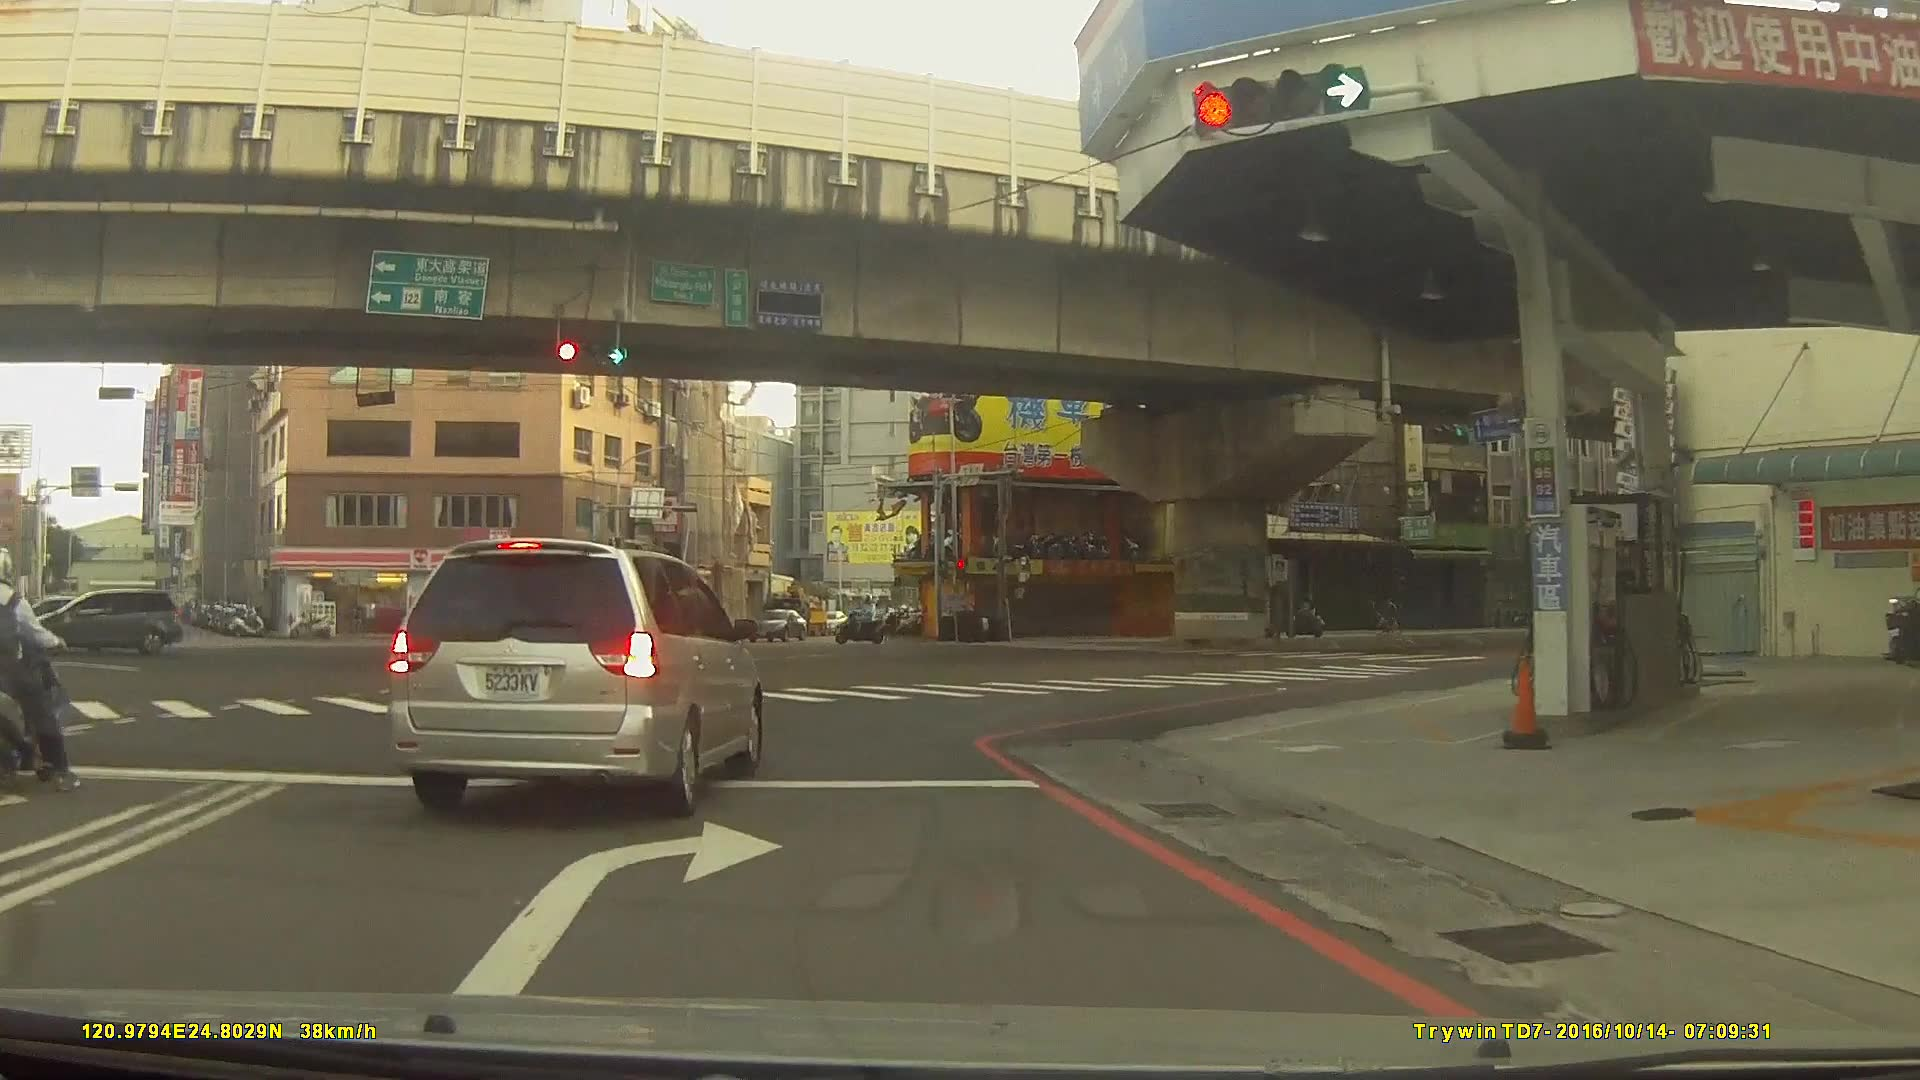rider: (1, 549, 93, 792), (837, 599, 887, 647)
vehicle: (385, 536, 761, 818), (27, 587, 182, 655), (751, 606, 810, 640), (543, 606, 605, 633)
